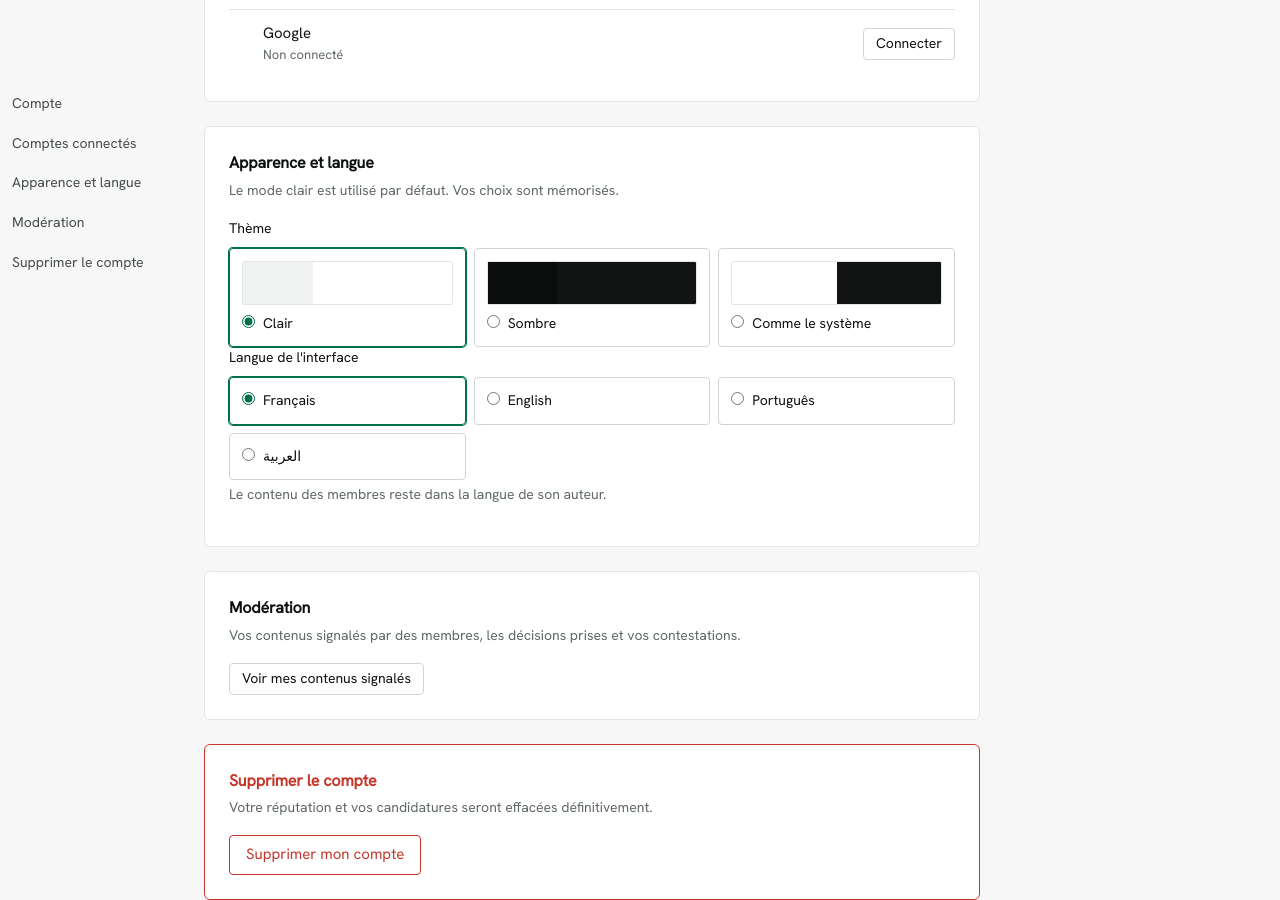
Scenario: SettingsPage › supprime le compte seulement après avoir recopié son pseudo
(page scrolled)
Click the button "Supprimer mon compte" at (325, 855), box [229,835,421,875]
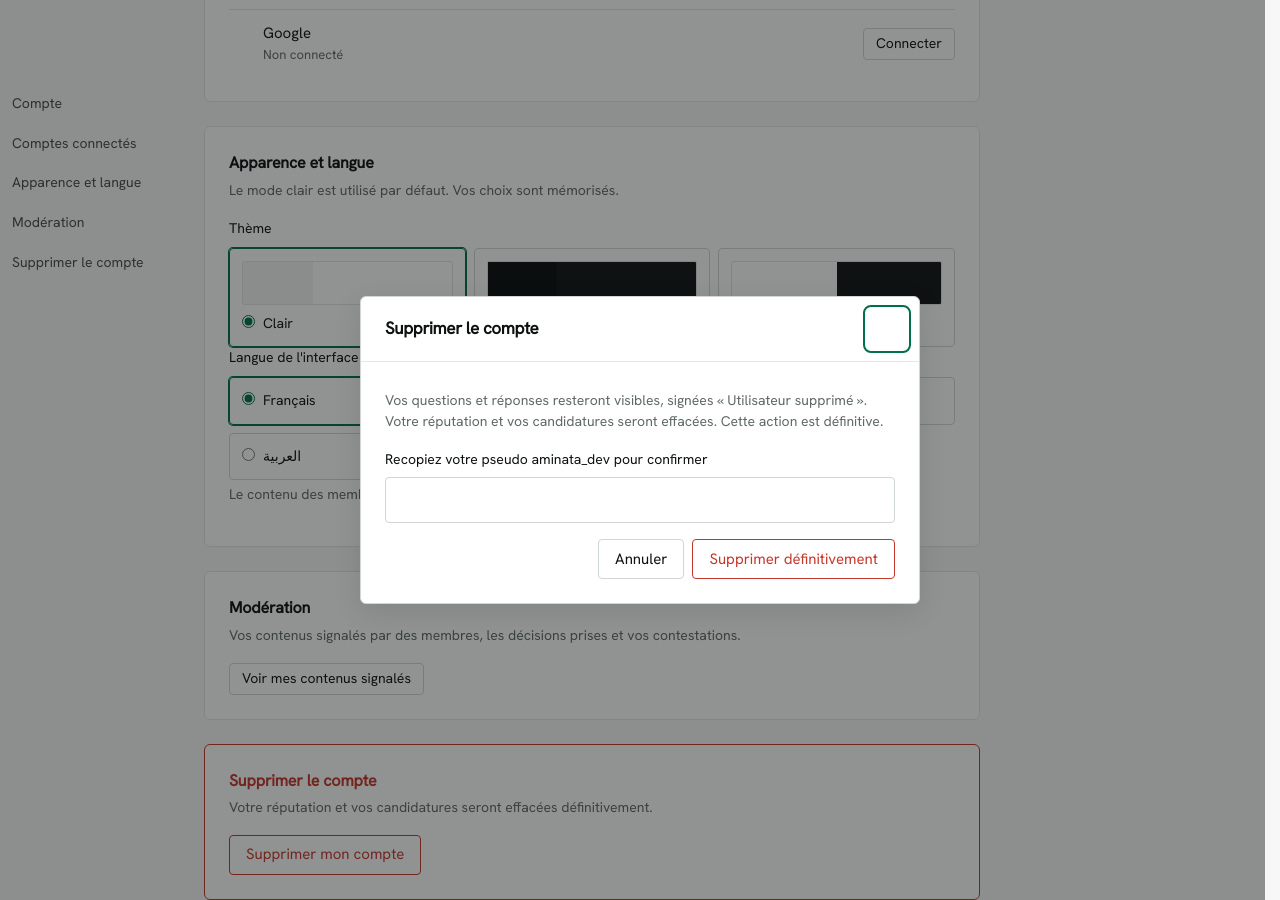
Type "aminata" into the field labelled "Recopiez votre pseudo aminata_dev pour confirmer" at (640, 500), box [385,477,895,523]
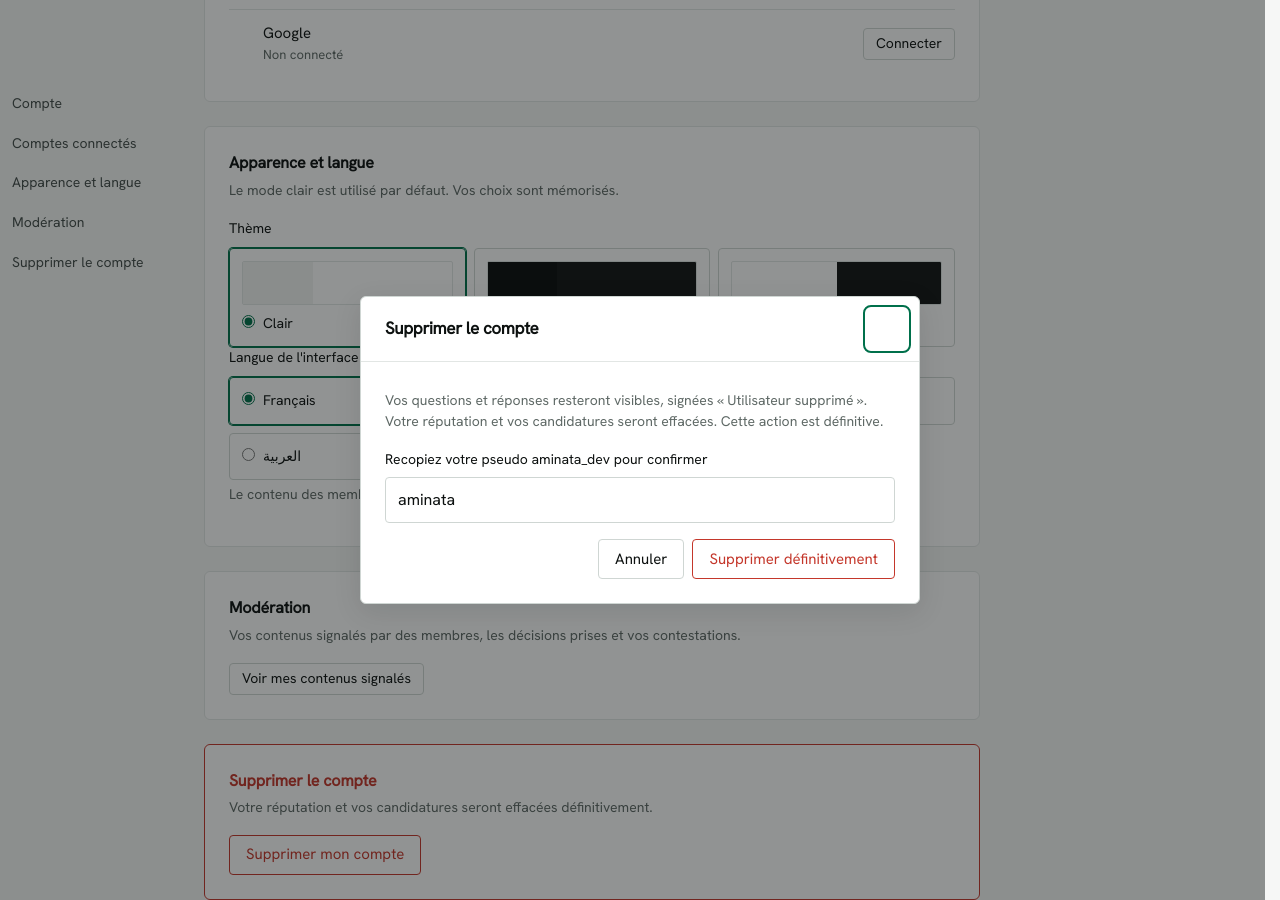
Click the button "Supprimer définitivement" at (794, 559), box [692,539,895,579]
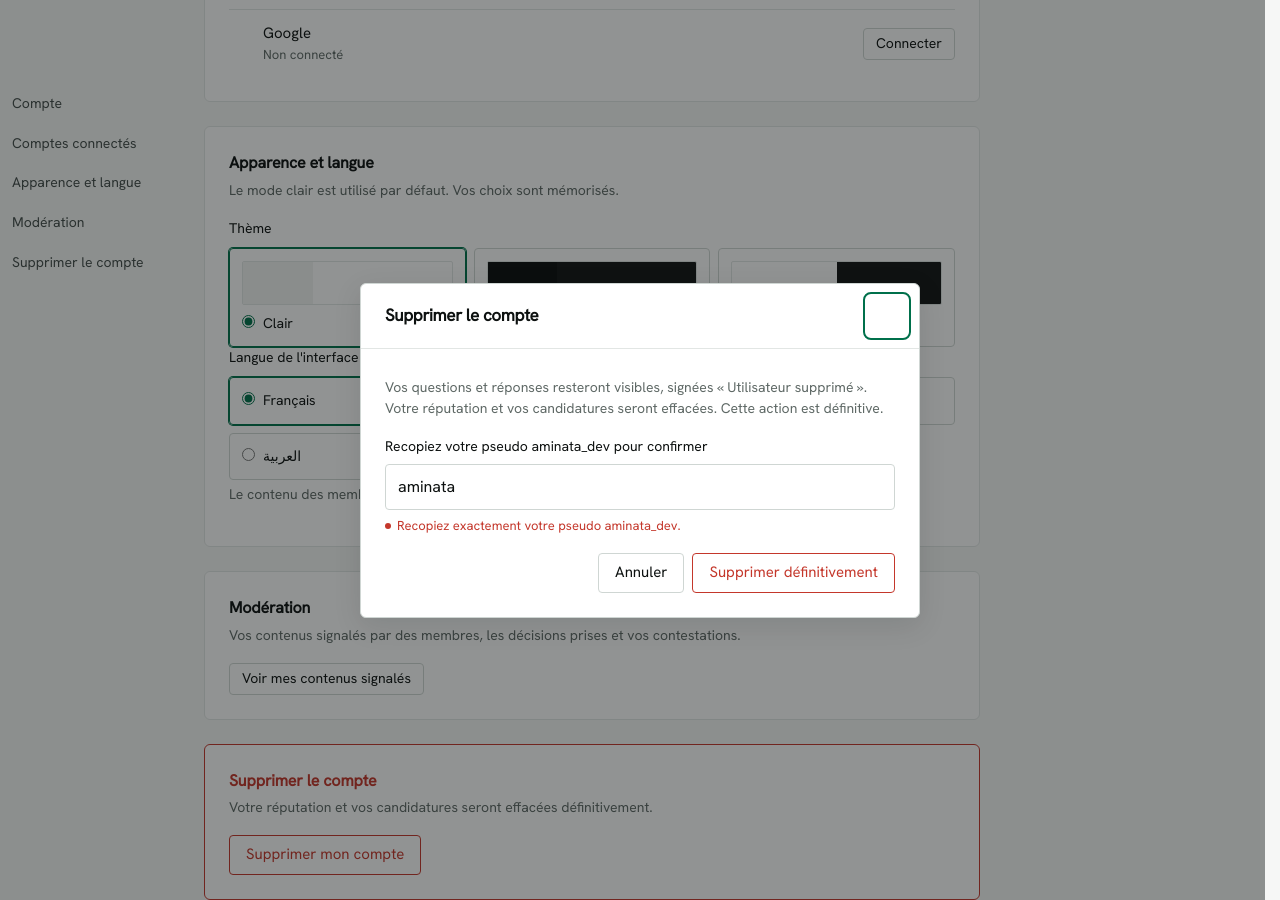
expect the text "Recopiez exactement votre pseudo aminata_dev." is shown: met, box [397,517,681,534]
Replace the text in the field labelled "Recopiez votre pseudo aminata_dev pour confirmer" with "aminata_dev" at (640, 487), box [385,464,895,510]
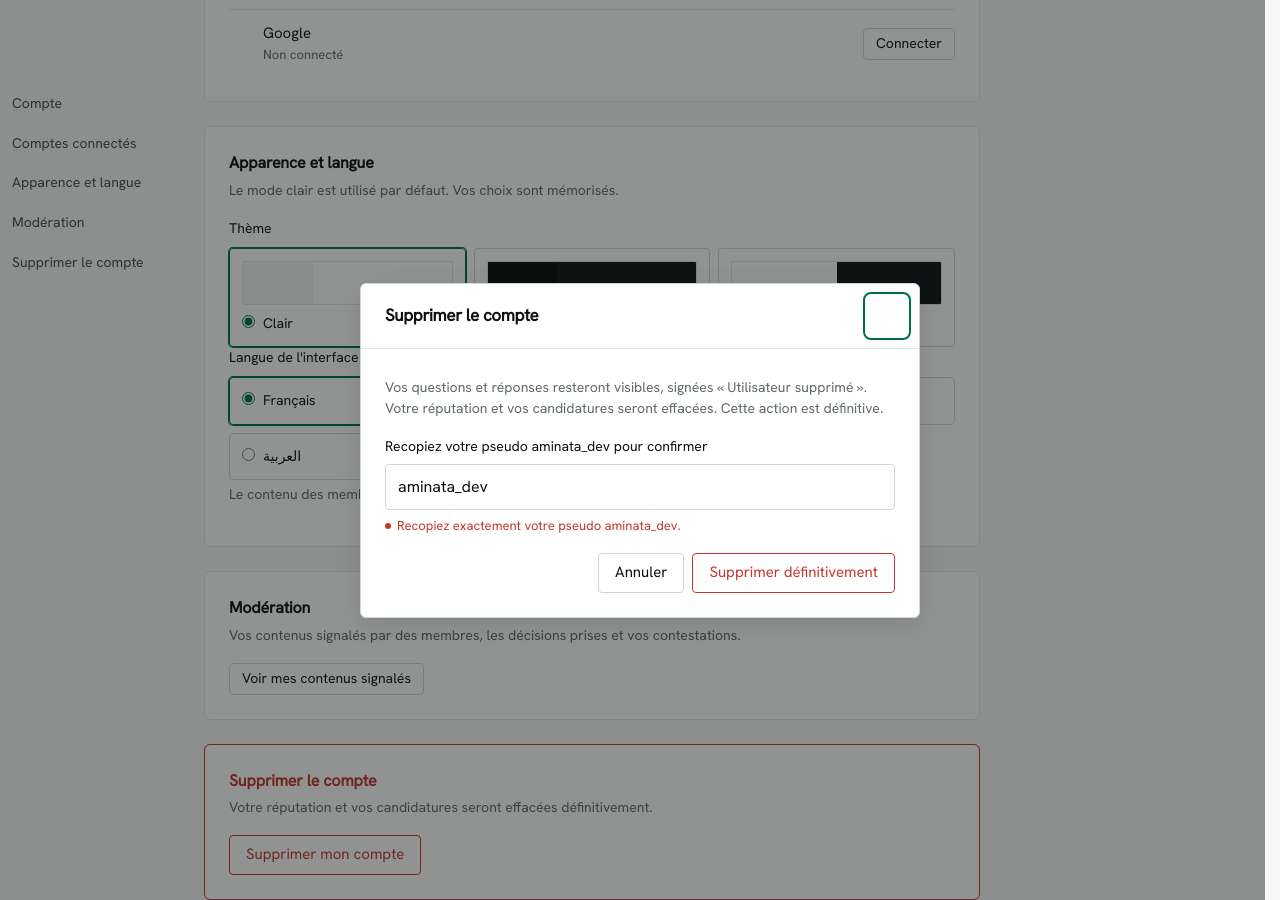
Click the button "Supprimer définitivement" at (794, 572), box [692,552,895,592]
(page scrolled)
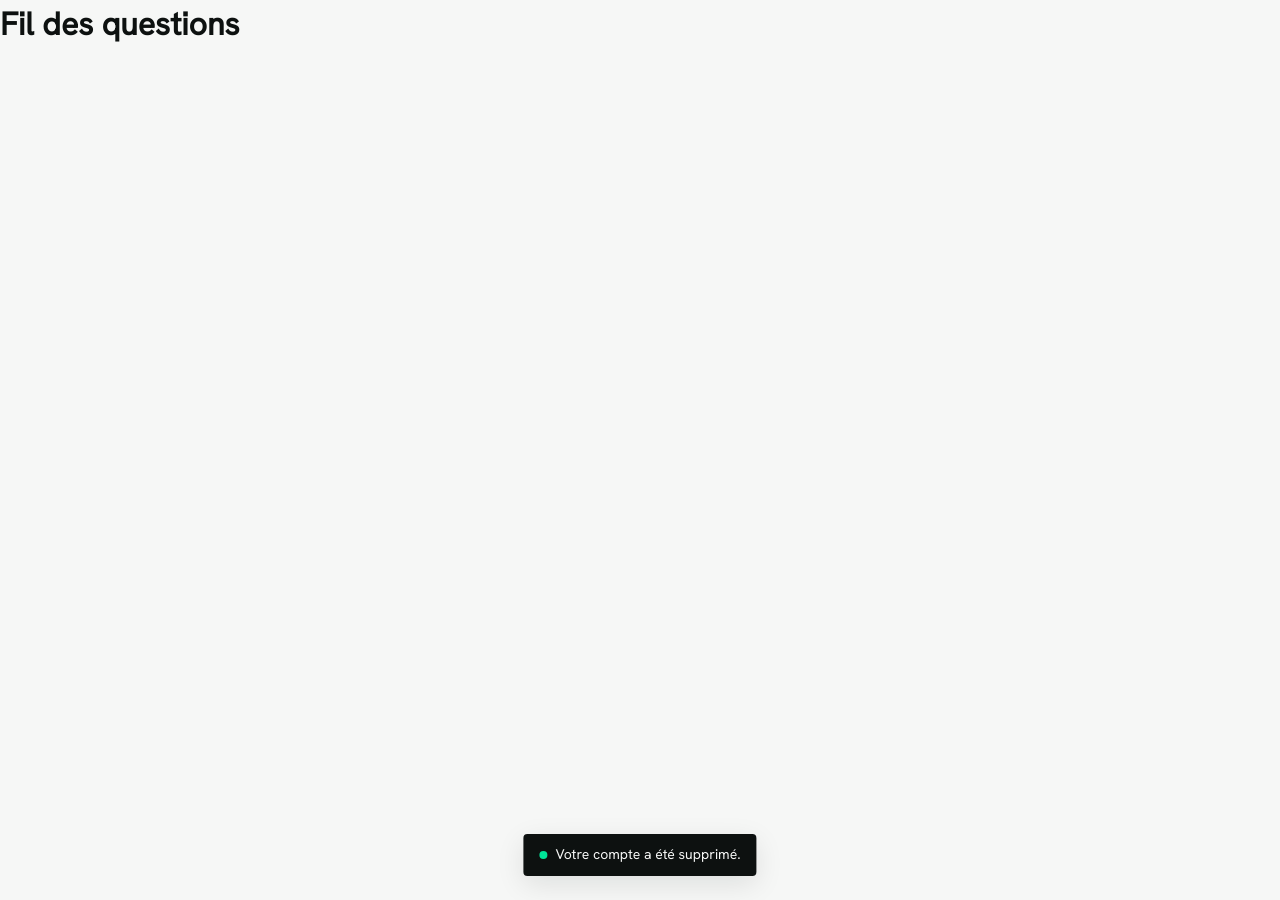
expect the heading "Fil des questions" is shown: met, box [0,3,240,45]
